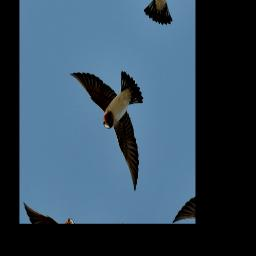Swallow: (52, 36, 167, 194)
